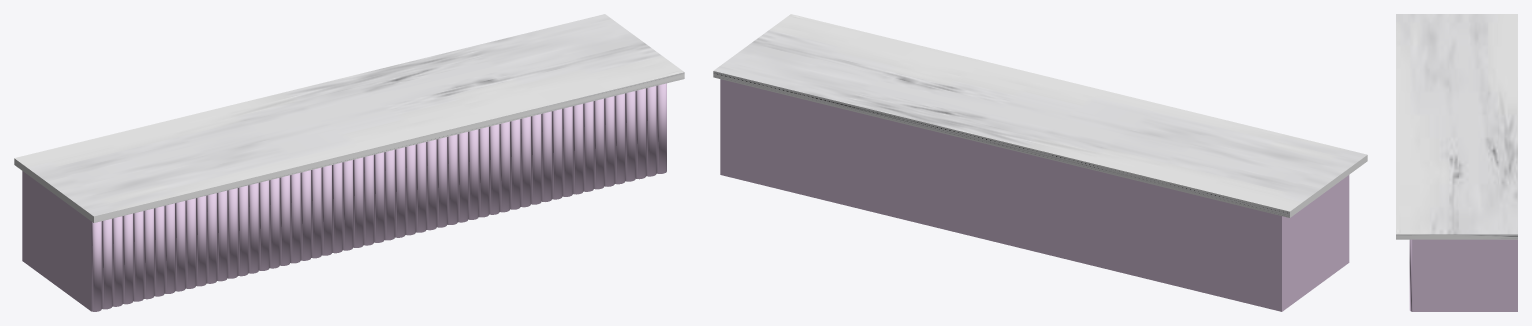
File: counter2.fbx
The picture shows the model from 3 angles, left to right: view 1: azimuth 30°, elevation 25°; view 2: azimuth 150°, elevation 25°; view 3: azimuth 270°, elevation 25°; orthographic projection. The views are drawn at different scales.
Parts seen in each view (by area): view 1: base.002, counter; view 2: base.002, counter; view 3: counter, base.002.
Part boxes in pixels (bbox=[...]): base.002: bbox=[22, 83, 666, 311]; counter: bbox=[14, 14, 684, 222]; base.002: bbox=[720, 79, 1349, 311]; counter: bbox=[713, 14, 1367, 217]; counter: bbox=[1396, 14, 1517, 239]; base.002: bbox=[1409, 239, 1517, 311].
Bounding box in the file's own units: 4412 × 748 × 1030.
